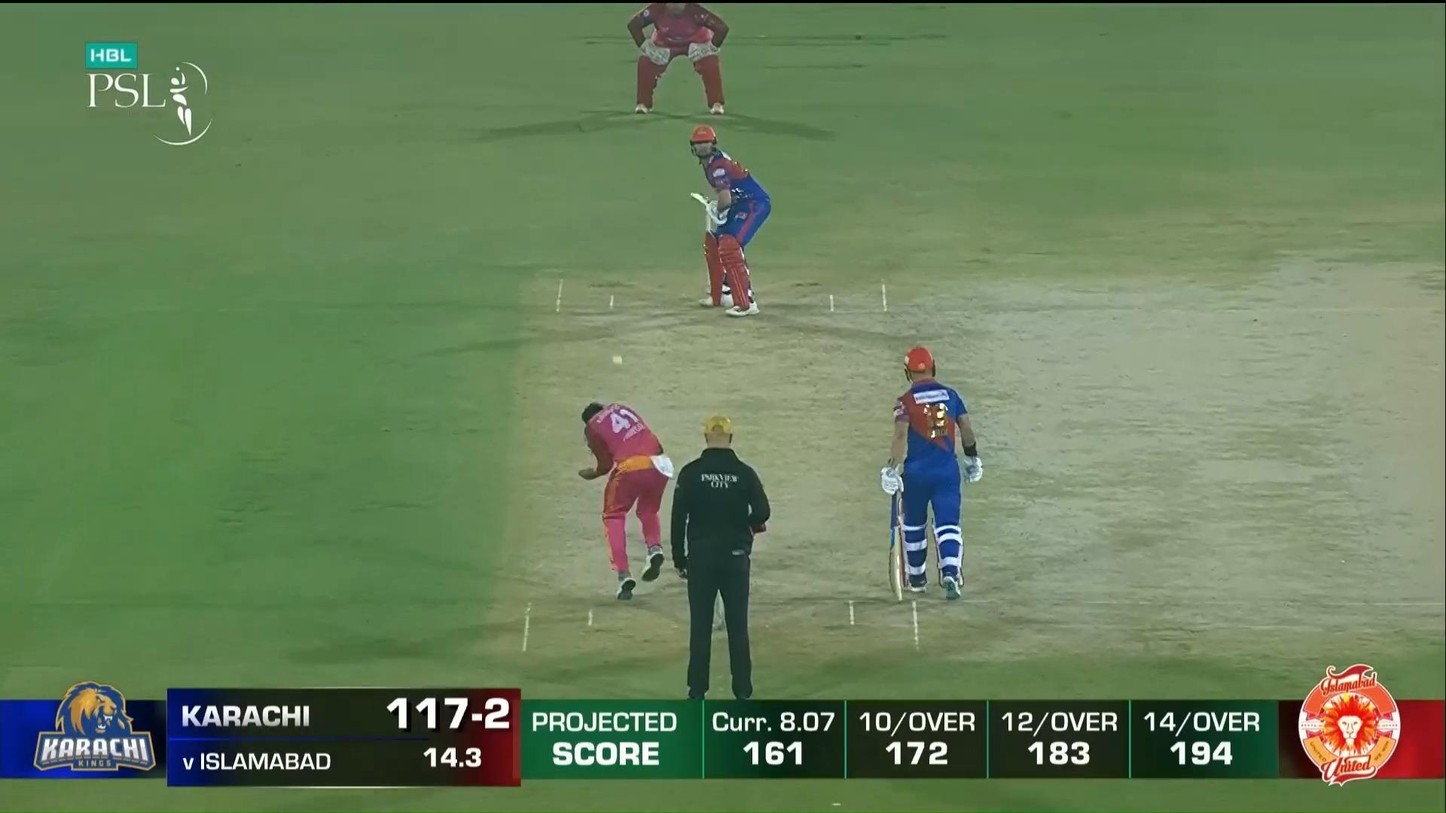batsman: (690, 124, 772, 317)
